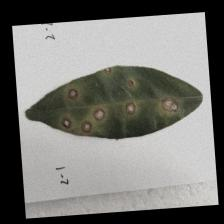canker: (49, 65, 183, 140)
